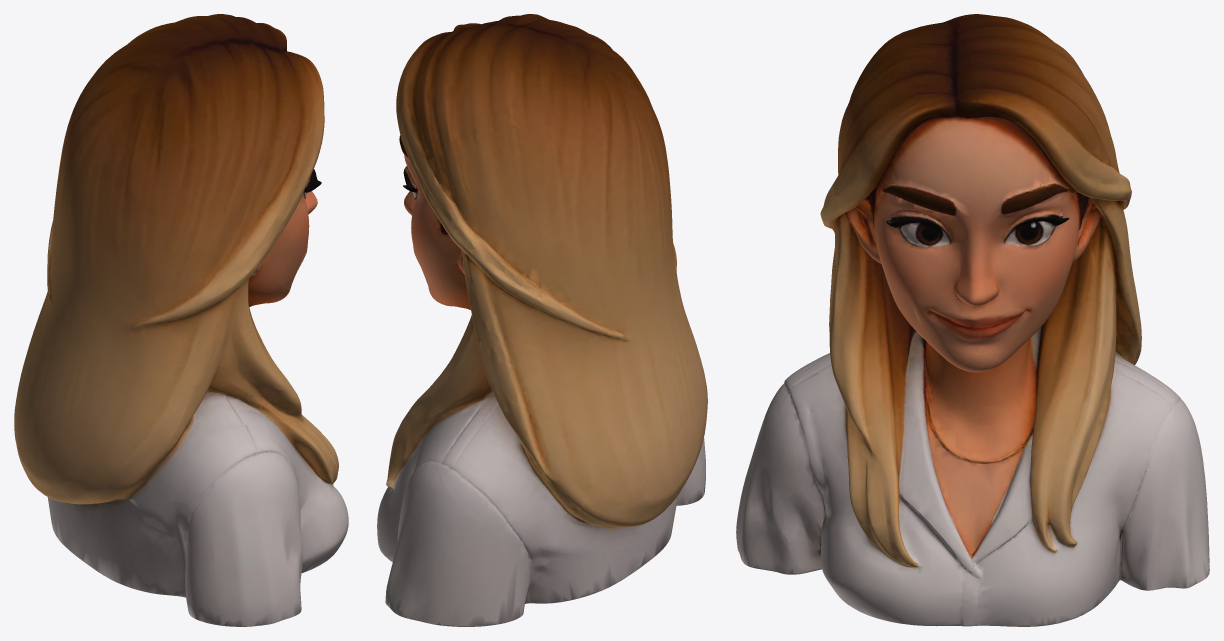
The model's file is founder-opt.glb.
3 renders of one model, left to right at view 1: azimuth 30°, elevation 25°; view 2: azimuth 150°, elevation 25°; view 3: azimuth 270°, elevation 25°, orthographic. The views are drawn at different scales.
Visible parts, largest first — view 1: tripo_node_90a326f4-7ebe-4ec9-aa39-4139113a6c44; view 2: tripo_node_90a326f4-7ebe-4ec9-aa39-4139113a6c44; view 3: tripo_node_90a326f4-7ebe-4ec9-aa39-4139113a6c44.
Boxes of the visible parts, box(x1,y1,x2,y2) form: tripo_node_90a326f4-7ebe-4ec9-aa39-4139113a6c44: box(14, 14, 348, 626); tripo_node_90a326f4-7ebe-4ec9-aa39-4139113a6c44: box(377, 14, 707, 626); tripo_node_90a326f4-7ebe-4ec9-aa39-4139113a6c44: box(736, 14, 1209, 626).
Bounding box in the file's own units: 0.5691 × 1 × 0.7926.
Materials: 1 (1 with a texture image).
